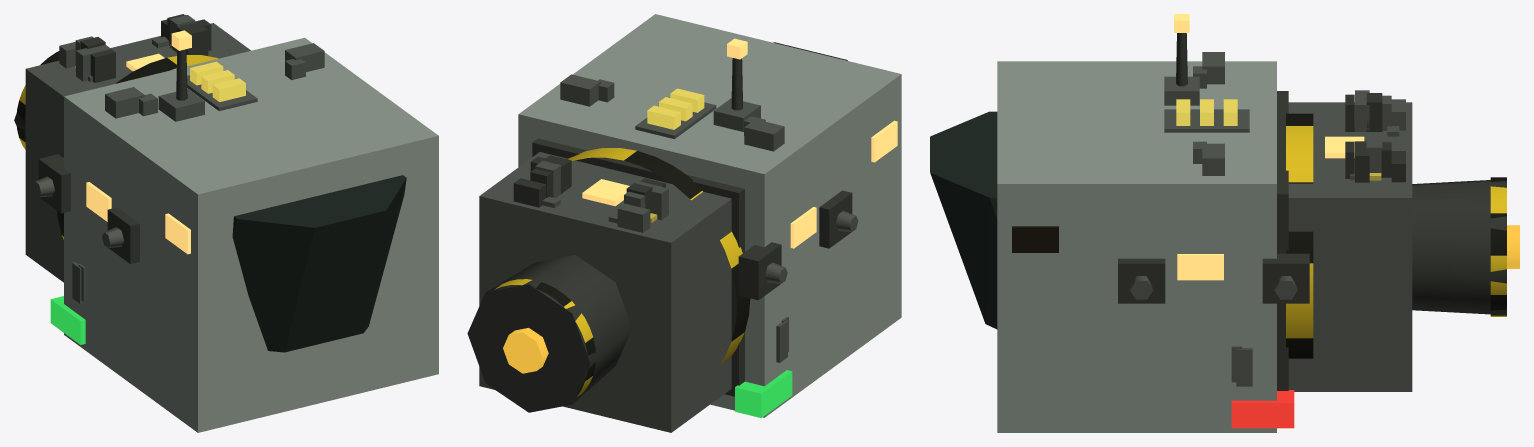
File: escape_pod-m(1).glb
The picture shows the model from 3 angles, left to right: view 1: azimuth 30°, elevation 25°; view 2: azimuth 150°, elevation 25°; view 3: azimuth 270°, elevation 25°; orthographic projection. The views are drawn at different scales.
Parts seen in each view (by area): view 1: hullNose, cockpitGlass, aftPlug, rcsQuad2, rcsQuad0, navLightStarboard, antennaBase, escapePodShipGreebleTop0L, escapePodShipAftGreeble4L, escapePodShipGreebleTop0R, iffPlinthDorsal, escapePodShipHullWindow1L (+8 smaller); view 2: hullNose, aftPlug, engineHousing, separationCollar, rcsQuad2, navLightStarboard, engineGlow, rcsQuad0, separationCautionSeg5, escapePodShipGreebleTop0L, escapePodShipGreebleTop0R, antennaBase (+16 smaller); view 3: hullNose, aftPlug, engineHousing, cockpitGlass, separationCollar, navLightPort, rcsQuad3, rcsQuad1, separationCautionSeg4, iffPlinthDorsal, escapePodShipHullWindow0R, escapePodShipHullWindow1R (+13 smaller).
Part boxes in pixels (box(x1,y1,x2,y2)): hullNose: box(64, 37, 438, 432); cockpitGlass: box(232, 175, 406, 352); aftPlug: box(25, 23, 250, 282); rcsQuad2: box(38, 154, 70, 213); rcsQuad0: box(107, 207, 139, 263); navLightStarboard: box(50, 296, 85, 344); antennaBase: box(158, 89, 204, 121); escapePodShipGreebleTop0L: box(105, 87, 144, 118); escapePodShipAftGreeble4L: box(90, 49, 115, 82); escapePodShipGreebleTop0R: box(285, 43, 324, 72); iffPlinthDorsal: box(187, 75, 257, 111); escapePodShipHullWindow1L: box(165, 213, 190, 254); hullNose: box(518, 14, 901, 417); aftPlug: box(479, 152, 731, 432); engineHousing: box(467, 255, 631, 412); separationCollar: box(532, 138, 744, 396); rcsQuad2: box(738, 242, 781, 300); navLightStarboard: box(735, 370, 792, 417); engineGlow: box(503, 328, 548, 373); rcsQuad0: box(819, 190, 852, 248); separationCautionSeg5: box(624, 151, 701, 199); escapePodShipGreebleTop0L: box(744, 119, 784, 151); escapePodShipGreebleTop0R: box(560, 74, 600, 106); antennaBase: box(713, 98, 760, 131); hullNose: box(997, 61, 1276, 432); aftPlug: box(1288, 102, 1412, 391); engineHousing: box(1412, 180, 1506, 315); cockpitGlass: box(930, 111, 997, 329); separationCollar: box(1277, 91, 1288, 390); navLightPort: box(1231, 390, 1294, 428); rcsQuad3: box(1262, 253, 1309, 303); rcsQuad1: box(1118, 258, 1165, 303); separationCautionSeg4: box(1286, 126, 1313, 182); iffPlinthDorsal: box(1164, 109, 1249, 132); escapePodShipHullWindow0R: box(1177, 254, 1223, 280); escapePodShipHullWindow1R: box(1012, 226, 1058, 252).
Bounding box in the file's own units: 0.88 × 0.9275 × 1.5.
